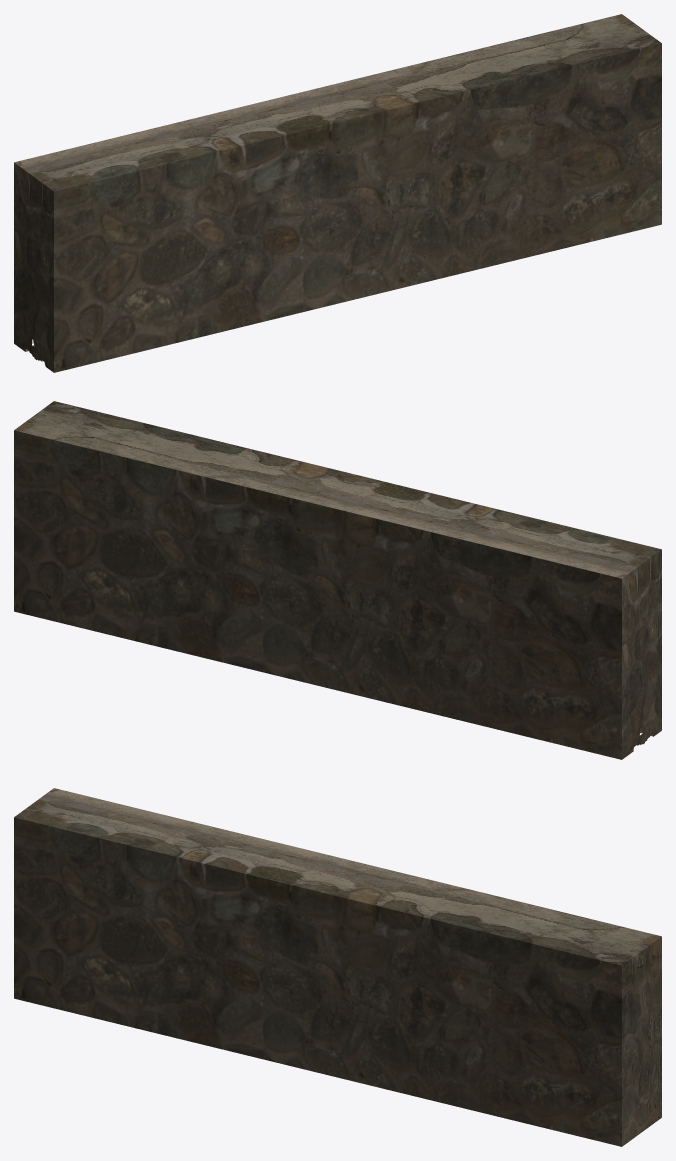
The model's file is OU_AR_Stone_Wall_01_D.fbx.
3 views of the same model, one above another, from view 1: azimuth 30°, elevation 25°; view 2: azimuth 150°, elevation 25°; view 3: azimuth 330°, elevation 25° (orthographic).
Visible parts, largest first — view 1: Stone_Wall; view 2: Stone_Wall; view 3: Stone_Wall.
Boxes of the visible parts, bbox=[...] form: Stone_Wall: bbox=[14, 14, 661, 372]; Stone_Wall: bbox=[14, 401, 661, 759]; Stone_Wall: bbox=[14, 788, 661, 1146].
Bounding box in the file's own units: 406 × 116 × 46.32.
Materials: 1 (1 with a texture image).
